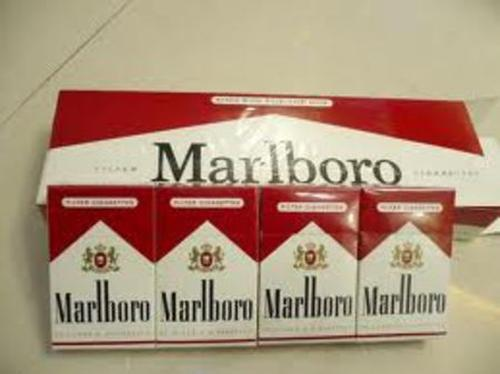marlboro: (54, 186, 155, 349), (258, 186, 358, 346), (157, 186, 256, 346), (362, 190, 450, 341)
